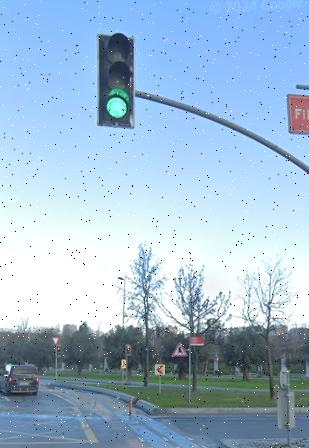greenlight: (98, 29, 135, 129)
